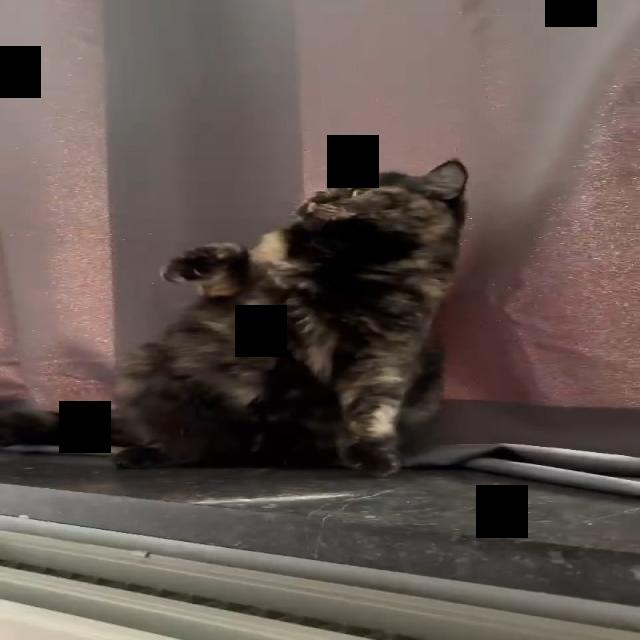authorized: (1, 158, 471, 478)
